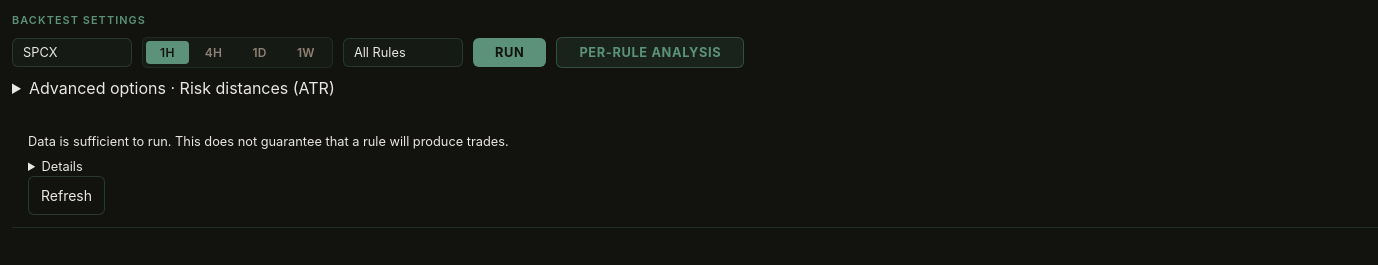
distinguishes a failed run (false) from zero matching trades
Click the button "Run".
click(510, 52)  # box [473,38,546,67]
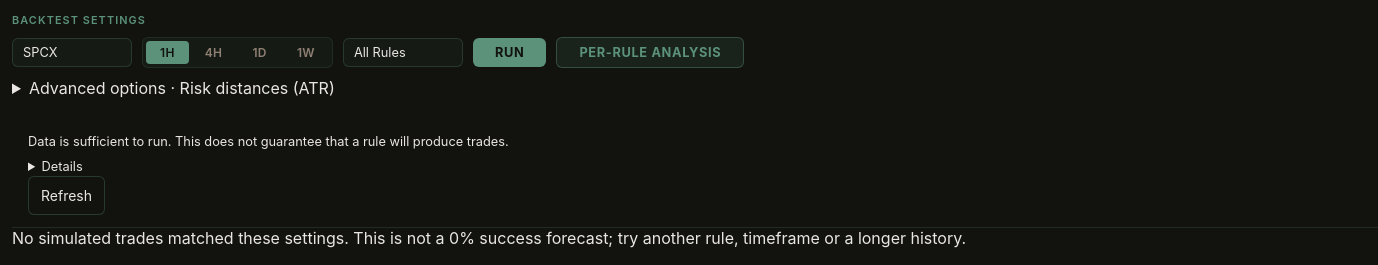
Expected: the text "No simulated trades matched" is shown, [12,228,966,248]
